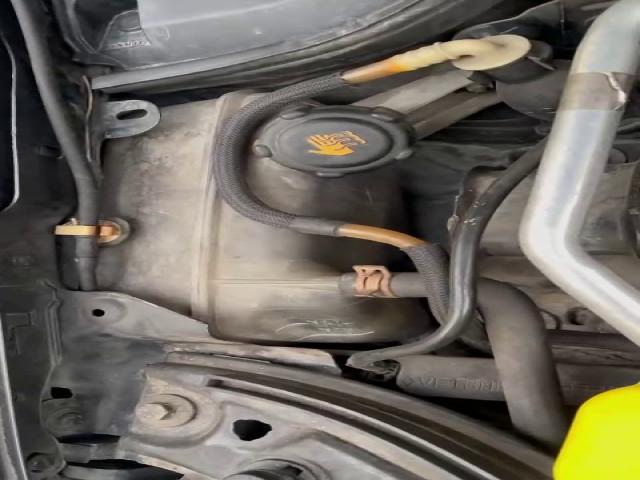antifreeze_tank: (106, 93, 426, 343), (245, 104, 415, 227)
